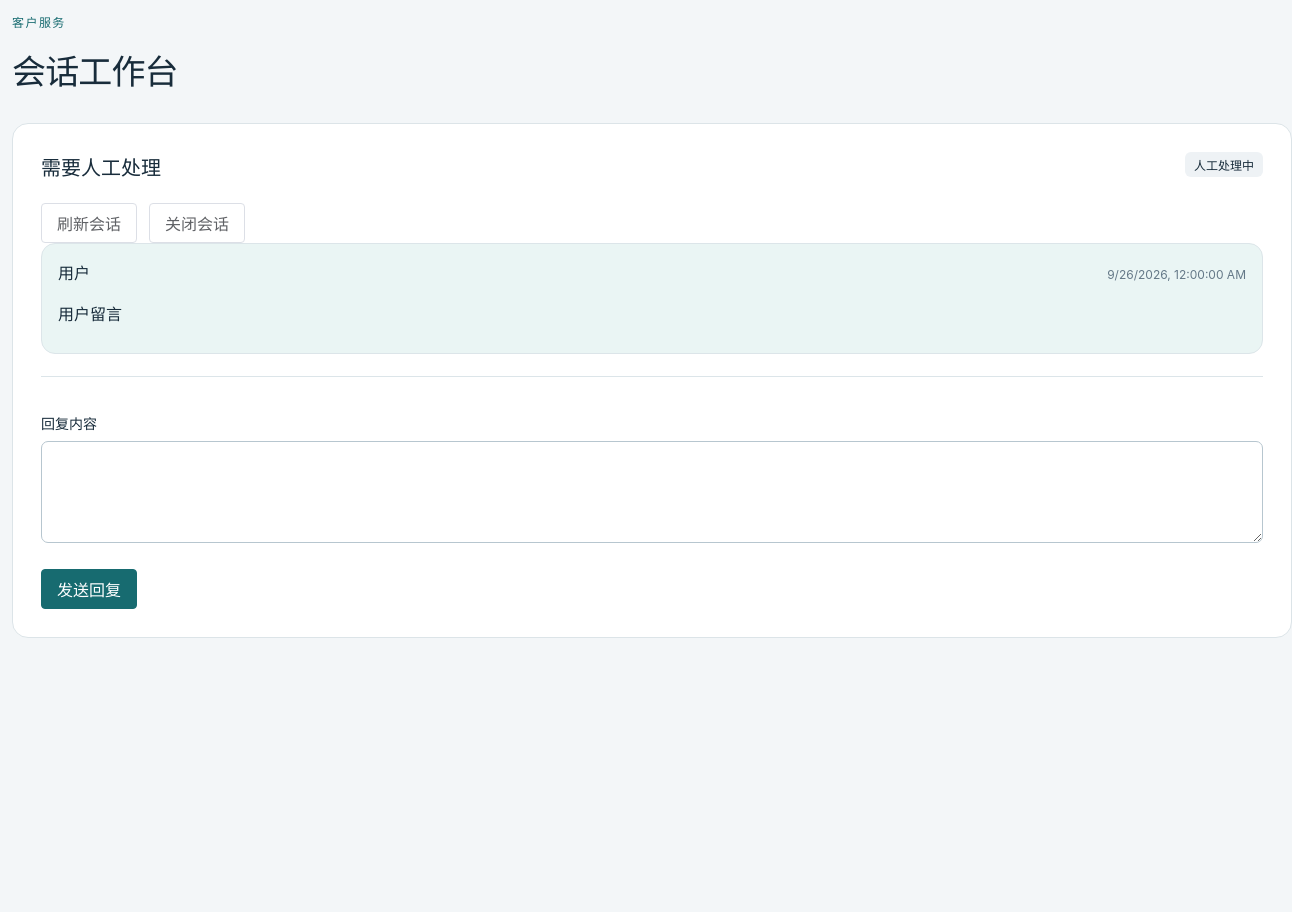
it: does not load history after an unassigned agent receives 404
The image size is (1292, 912).
Click the button "刷新会话" at (89, 223), box [41,203,137,243]
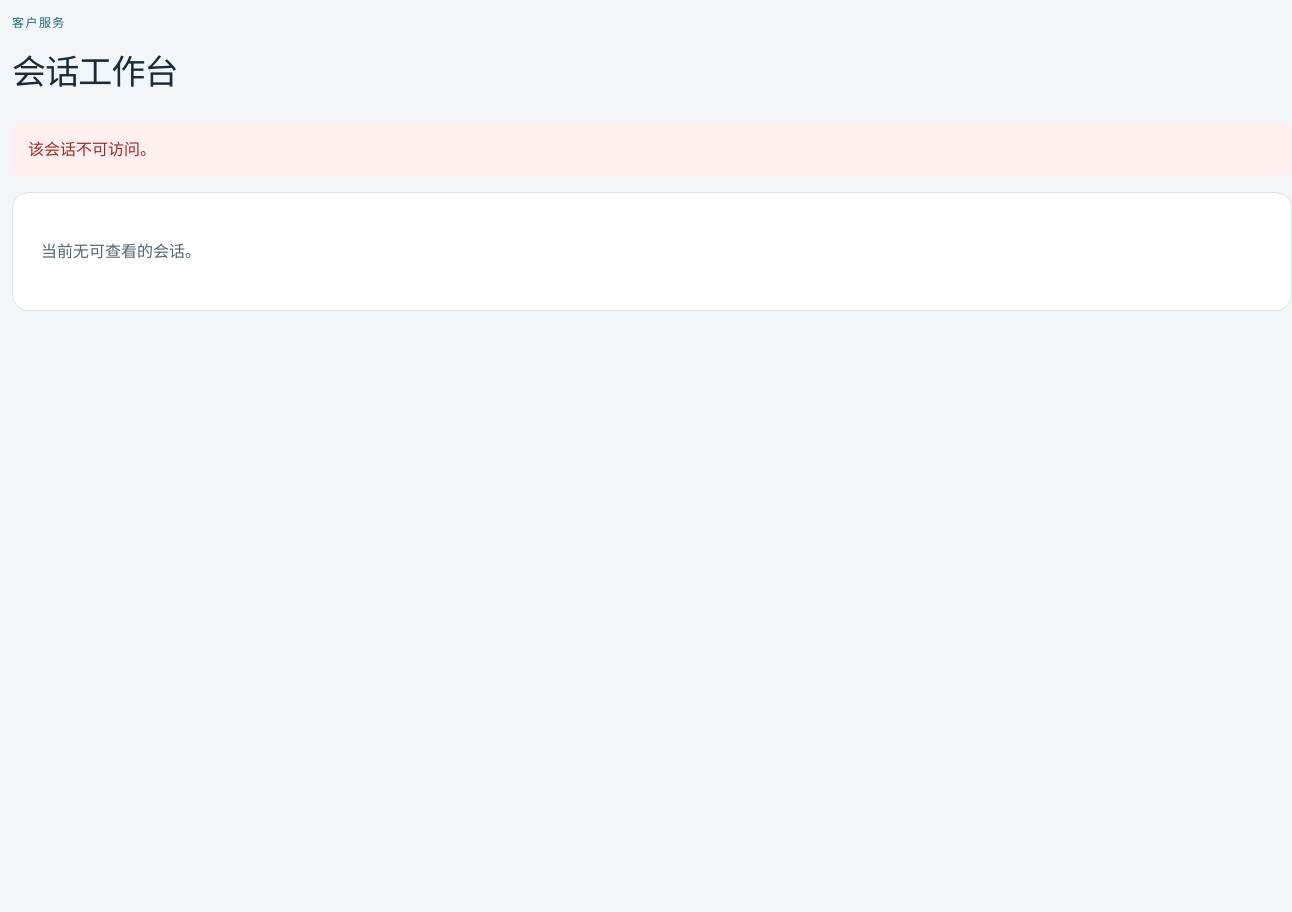
Check: the text "用户留言" is gone
Check: the text "不可访问" is shown, box [28,139,156,159]
